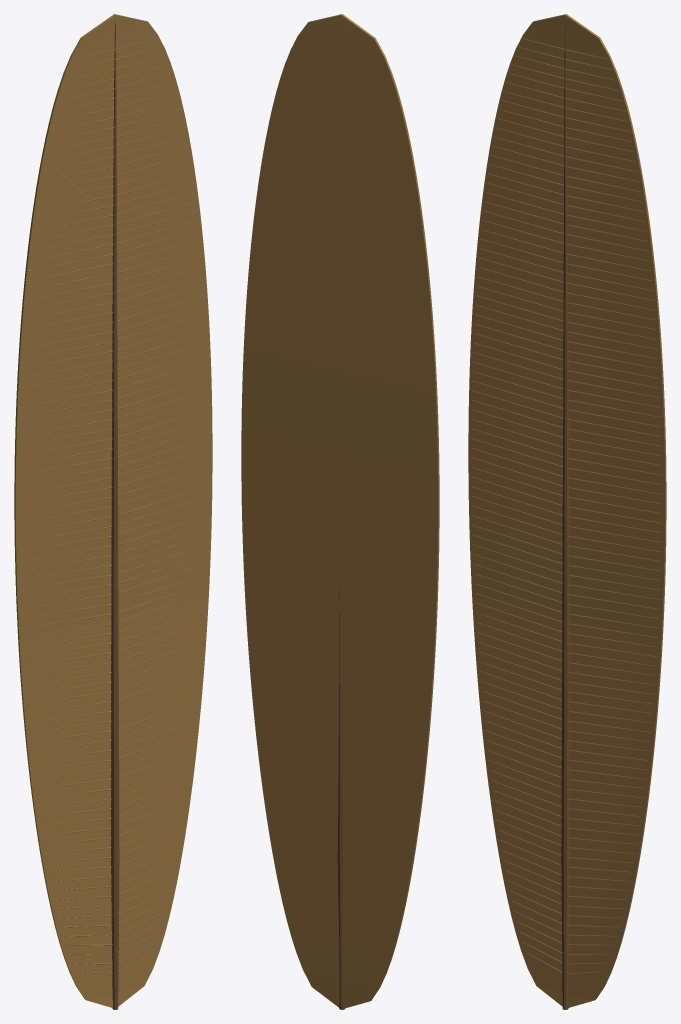
The model's file is bjuvia.glb.
The picture shows the model from 3 angles, left to right: view 1: azimuth 30°, elevation 25°; view 2: azimuth 150°, elevation 25°; view 3: azimuth 330°, elevation 25°; orthographic projection.
Visible parts, largest first — view 1: entire-strap-open-parallel-veins; view 2: entire-strap-open-parallel-veins; view 3: entire-strap-open-parallel-veins.
Boxes of the visible parts, x1,y1,x2,y2 form: entire-strap-open-parallel-veins: (14,14,212,1009); entire-strap-open-parallel-veins: (241,14,439,1009); entire-strap-open-parallel-veins: (468,14,666,1009).
Bounding box in the file's own units: 0.1036 × 0.5 × 0.0042.
